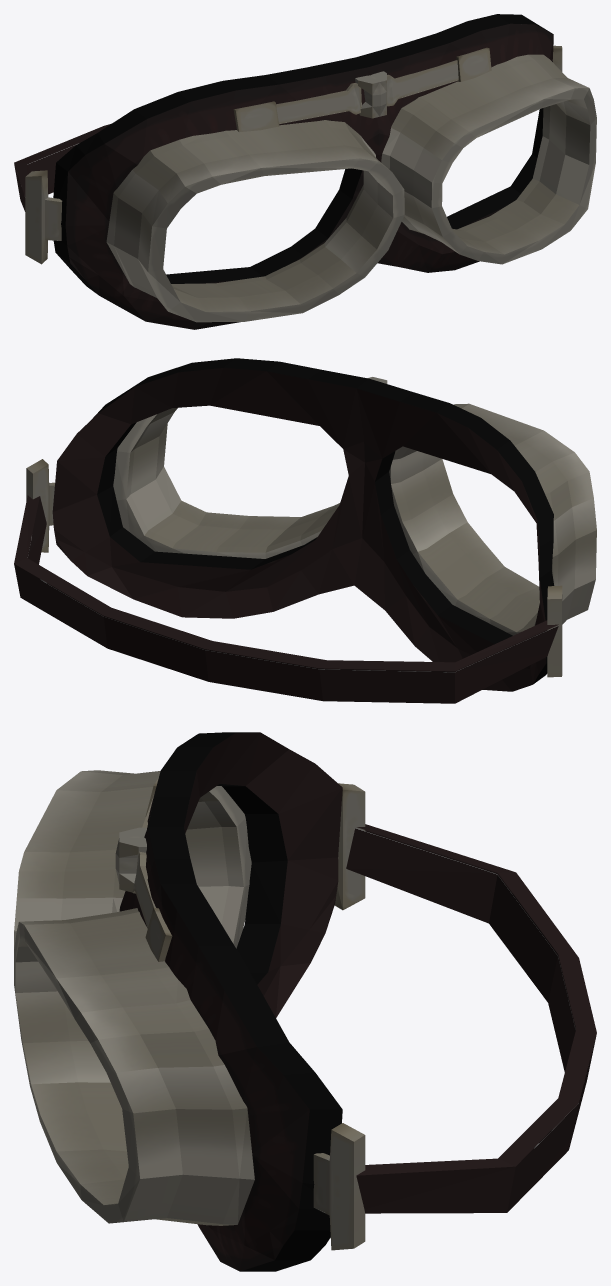
File: gogle.obj
3 renders of one model, top to bottom at view 1: azimuth 30°, elevation 25°; view 2: azimuth 150°, elevation 25°; view 3: azimuth 270°, elevation 25°, orthographic. The views are drawn at different scales.
Parts seen in each view (by area): view 1: Cube; view 2: Cube; view 3: Cube.
Part boxes in pixels (x1,y1,x2,y2): Cube: (14,14,596,329); Cube: (14,358,596,703); Cube: (14,732,596,1271).
Bounding box in the file's own units: 5.09 × 2.23 × 3.51.
